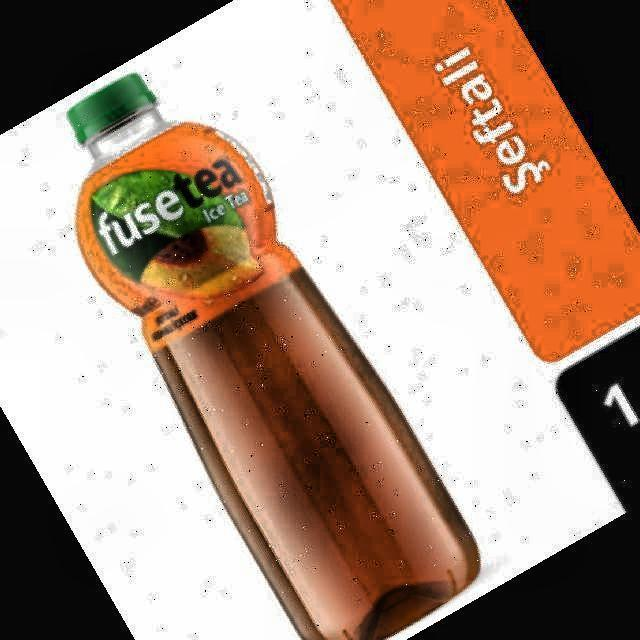plastic: (69, 75, 479, 639)
